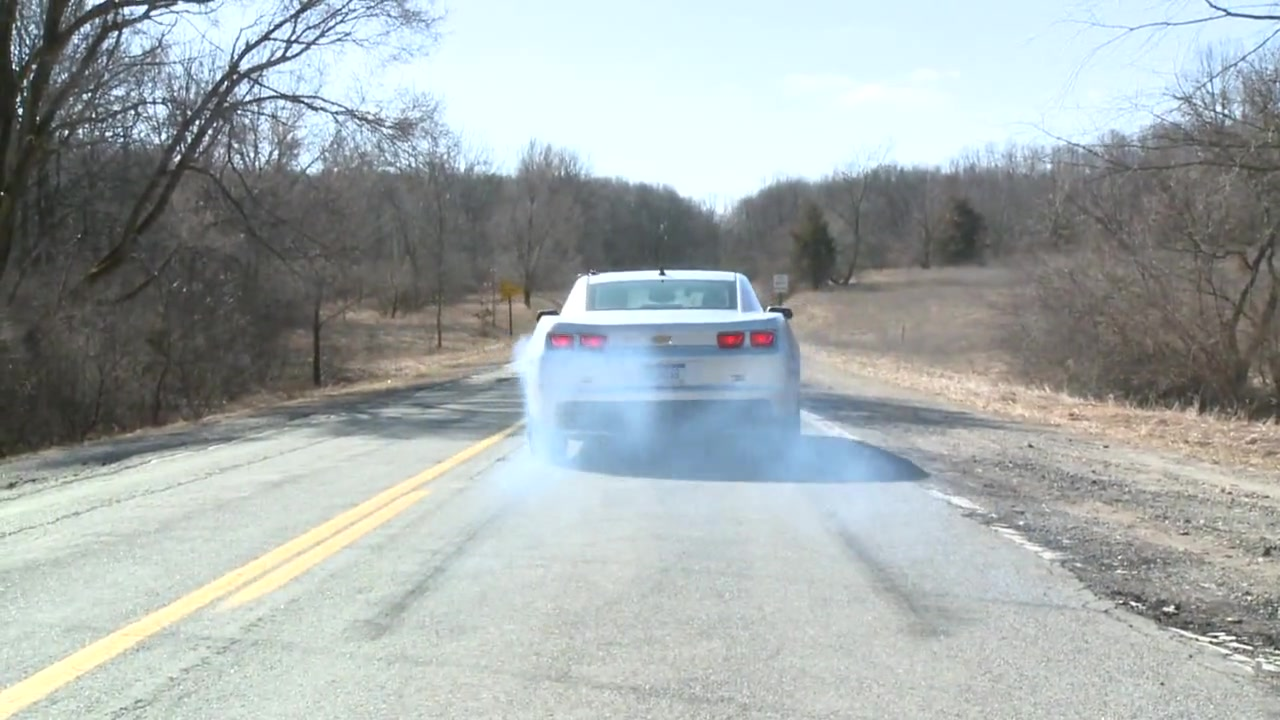car: (521, 264, 813, 478)
